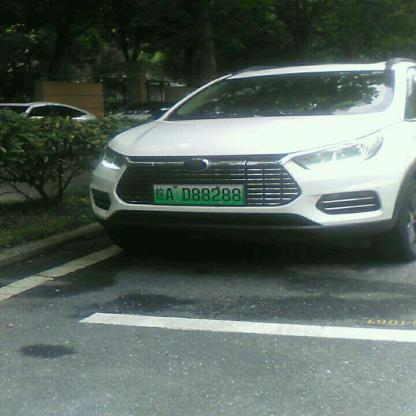lp: (153, 184, 242, 204)
